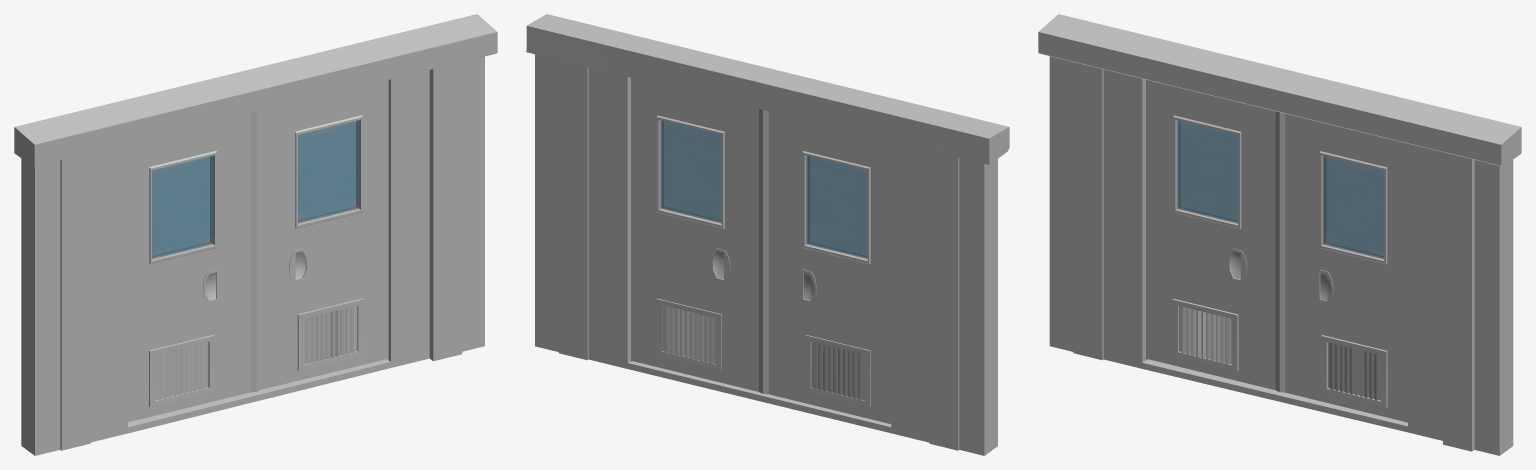
Rendered from дверь2.fbx.
3 views of the same model, side by side, from view 1: azimuth 30°, elevation 25°; view 2: azimuth 150°, elevation 25°; view 3: azimuth 330°, elevation 25° (orthographic).
Visible parts, largest first — view 1: Плоскость.007, Плоскость.005, Плоскость.002, Плоскость.003, Плоскость.001; view 2: Плоскость.007, Плоскость.005, Плоскость.002, Плоскость.003, Плоскость.001; view 3: Плоскость.007, Плоскость.002, Плоскость.005, Плоскость.003, Плоскость.001.
Part boxes in pixels (x1,y1,x2,y2): Плоскость.007: [14, 14, 497, 455]; Плоскость.005: [256, 80, 388, 391]; Плоскость.002: [128, 112, 256, 422]; Плоскость.003: [152, 156, 213, 259]; Плоскость.001: [298, 120, 358, 223]; Плоскость.007: [526, 14, 1009, 455]; Плоскость.005: [631, 77, 762, 393]; Плоскость.002: [763, 110, 891, 423]; Плоскость.003: [806, 156, 867, 258]; Плоскость.001: [660, 120, 721, 223]; Плоскость.007: [1038, 14, 1521, 455]; Плоскость.002: [1146, 80, 1279, 391]; Плоскость.005: [1279, 112, 1407, 422]; Плоскость.003: [1177, 120, 1238, 223]; Плоскость.001: [1323, 156, 1384, 259].
Size of the model in its own units: 1086 by 717 by 82.83.
